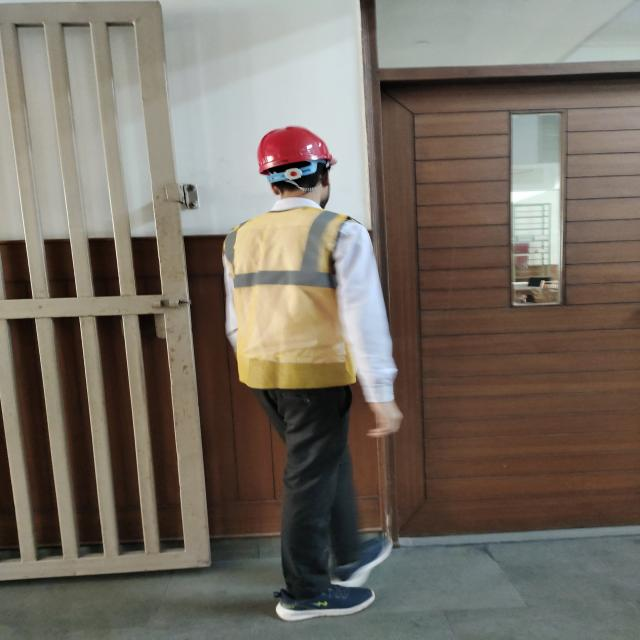safe: (226, 127, 389, 620)
